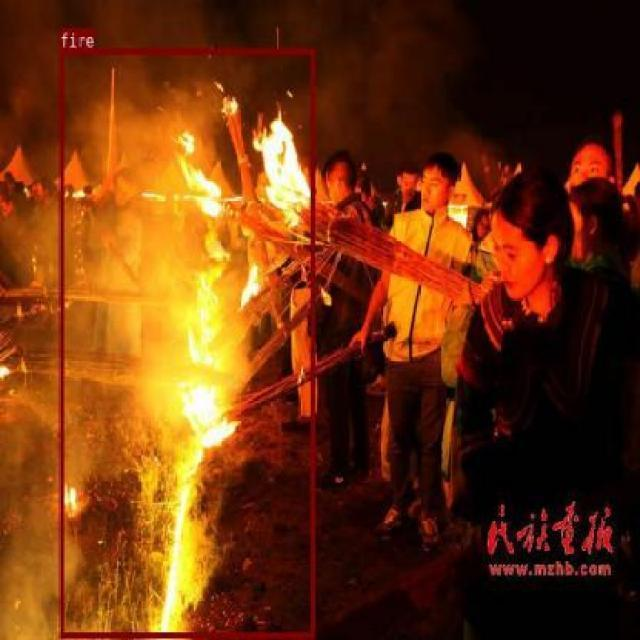Fire: (58, 48, 314, 637)
